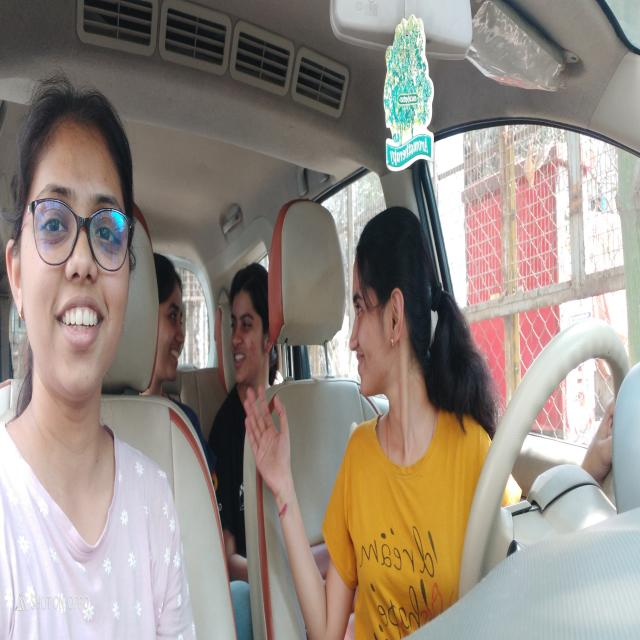LeftRight: (342, 202, 431, 445)
person: (1, 55, 139, 412), (224, 262, 270, 391), (155, 250, 189, 387)
talking: (353, 349, 368, 381)
